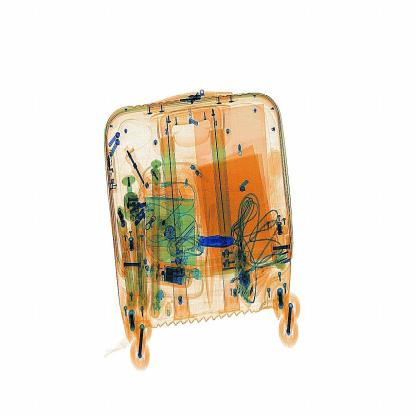knife: (193, 226, 240, 249)
